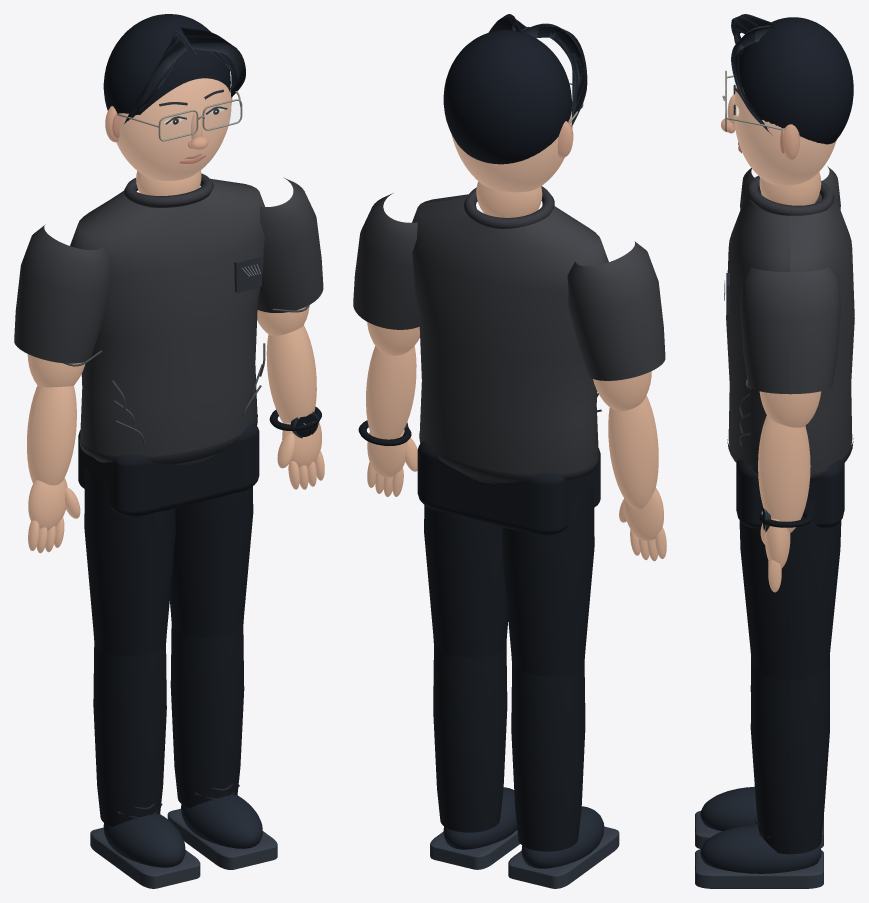
The model's file is personal-avatar.glb.
3 views of the same model, side by side, from view 1: azimuth 30°, elevation 25°; view 2: azimuth 150°, elevation 25°; view 3: azimuth 270°, elevation 25° (orthographic).
Visible parts, largest first — view 1: Charcoal T-shirt, Trouser calf (×2), Loose trouser thigh (×2), Relaxed short sleeve (×2), Trouser waist, Forearm (×2), Sculpted face, Parted black hair, Dark trainer (×2), Shoe sole (×2), Palm (×2), Upper arm (×2) (+5 smaller); view 2: Charcoal T-shirt, Trouser calf (×2), Loose trouser thigh (×2), Relaxed short sleeve (×2), Parted black hair, Trouser waist, Forearm (×2), Shoe sole (×2), Dark trainer (×2), Sculpted face, Upper arm (×2), Palm (×2) (+3 smaller); view 3: Charcoal T-shirt, Trouser calf, Loose trouser thigh, Relaxed short sleeve (×2), Parted black hair, Dark trainer (×2), Forearm, Sculpted face, Trouser waist, Shoe sole (×2), Upper arm, Ribbed crew neck (+5 smaller).
Part boxes in pixels (<box>): Charcoal T-shirt: <box>70,178,264,465</box>; Trouser calf (×2): <box>93,625,244,826</box>; Loose trouser thigh (×2): <box>84,465,253,656</box>; Relaxed short sleeve (×2): <box>14,177,323,363</box>; Trouser waist: <box>78,423,259,516</box>; Forearm (×2): <box>27,325,316,485</box>; Sculpted face: <box>116,78,231,180</box>; Parted black hair: <box>103,14,230,114</box>; Dark trainer (×2): <box>103,795,262,867</box>; Shoe sole (×2): <box>90,808,277,888</box>; Palm (×2): <box>28,422,321,530</box>; Upper arm (×2): <box>27,306,309,387</box>; Charcoal T-shirt: <box>412,194,608,483</box>; Trouser calf (×2): <box>433,643,585,851</box>; Loose trouser thigh (×2): <box>424,484,594,676</box>; Relaxed short sleeve (×2): <box>353,193,665,380</box>; Parted black hair: <box>443,30,571,164</box>; Trouser waist: <box>417,441,600,535</box>; Forearm (×2): <box>366,346,658,509</box>; Shoe sole (×2): <box>430,826,619,888</box>; Dark trainer (×2): <box>443,787,604,868</box>; Sculpted face: <box>451,111,572,192</box>; Upper arm (×2): <box>367,322,651,411</box>; Palm (×2): <box>367,429,663,541</box>; Charcoal T-shirt: <box>726,193,854,474</box>; Trouser calf: <box>750,662,829,854</box>; Loose trouser thigh: <box>739,501,841,680</box>; Relaxed short sleeve (×2): <box>740,166,840,394</box>; Parted black hair: <box>739,17,853,144</box>; Dark trainer (×2): <box>700,786,821,873</box>; Forearm: <box>758,415,810,532</box>; Sculpted face: <box>734,86,836,185</box>; Trouser waist: <box>736,459,844,528</box>; Shoe sole (×2): <box>695,811,823,888</box>; Upper arm: <box>759,391,821,427</box>; Ribbed crew neck: <box>746,175,834,215</box>.
Bounding box in the file's own units: 0.6766 × 1.79 × 0.31.
